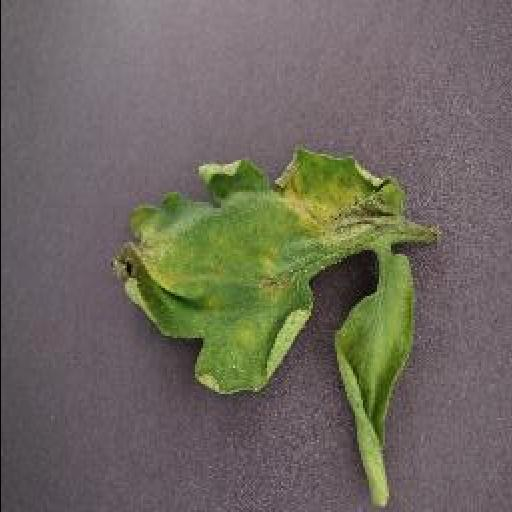disease_tomato: (108, 146, 416, 398), (334, 254, 416, 506)
